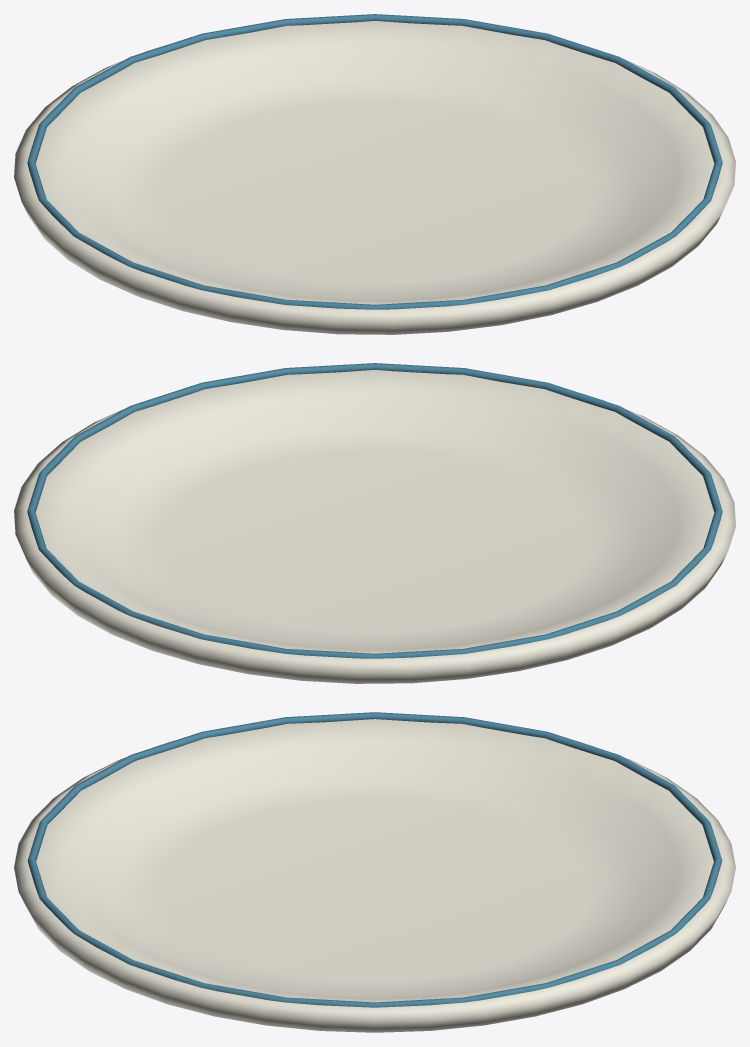
File: tableware_plate.glb
The picture shows the model from 3 angles, top to bottom: view 1: azimuth 30°, elevation 25°; view 2: azimuth 150°, elevation 25°; view 3: azimuth 270°, elevation 25°; orthographic projection.
Parts seen in each view (by area): view 1: Dinner plate, Blue rim accent; view 2: Dinner plate, Blue rim accent; view 3: Dinner plate, Blue rim accent.
Boxes of the visible parts, x1,y1,x2,y2 form: Dinner plate: (14,21,735,334); Blue rim accent: (27,14,722,309); Dinner plate: (14,370,735,683); Blue rim accent: (27,363,722,658); Dinner plate: (14,719,735,1032); Blue rim accent: (27,712,722,1007).
Bounding box in the file's own units: 0.288 × 0.0247 × 0.288.
